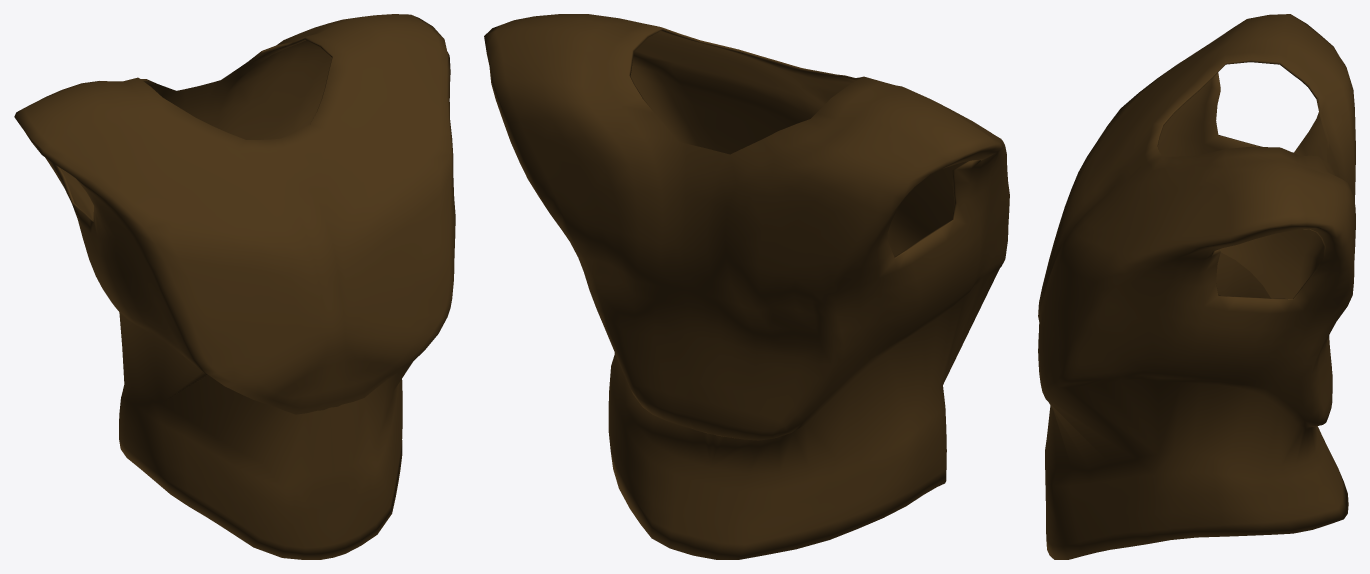
Rendered from chest.fbx.
3 renders of one model, left to right at view 1: azimuth 30°, elevation 25°; view 2: azimuth 150°, elevation 25°; view 3: azimuth 270°, elevation 25°, orthographic. The views are drawn at different scales.
Visible parts, largest first — view 1: Chest; view 2: Chest; view 3: Chest.
Boxes of the visible parts, bbox=[...] form: Chest: bbox=[14, 14, 455, 559]; Chest: bbox=[484, 14, 1009, 559]; Chest: bbox=[1038, 14, 1355, 559].
Bounding box in the file's own units: 4982 × 4890 × 3166.
